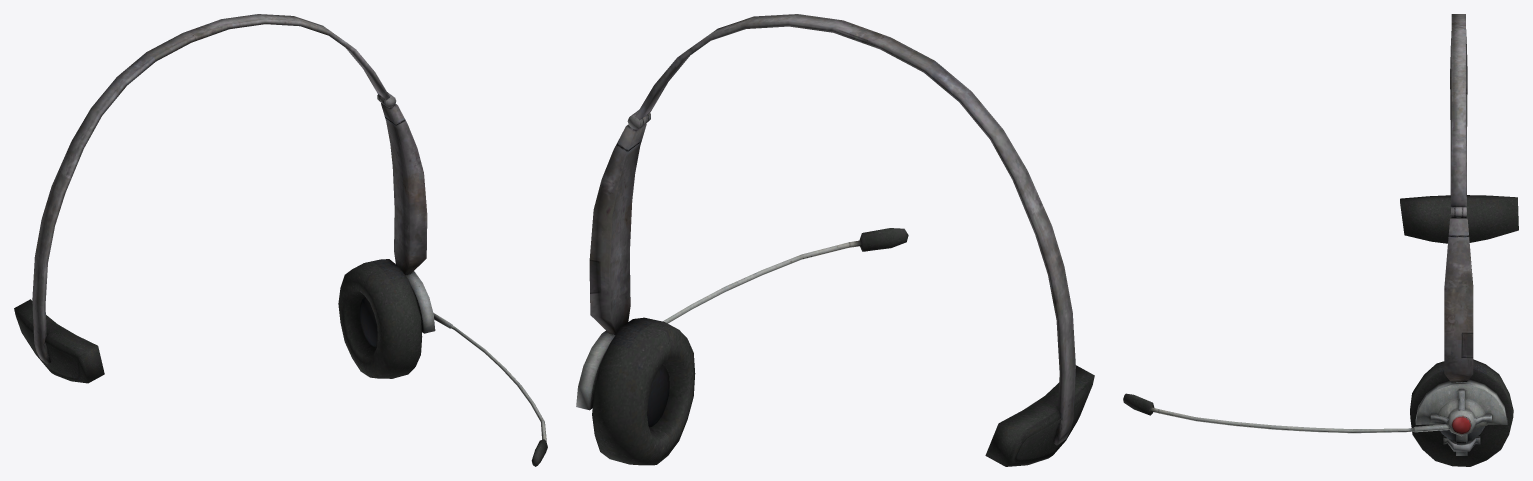
Rendered from headset.DAE.
The picture shows the model from 3 angles, left to right: view 1: azimuth 30°, elevation 25°; view 2: azimuth 150°, elevation 25°; view 3: azimuth 270°, elevation 25°; orthographic projection. The views are drawn at different scales.
Visible parts, largest first — view 1: headset; view 2: headset; view 3: headset.
Boxes of the visible parts, <box> form: headset: <box>14,14,547,466</box>; headset: <box>576,14,1094,466</box>; headset: <box>1123,14,1518,466</box>.
Size of the model in its own units: 39.29 by 37.39 by 37.51.
